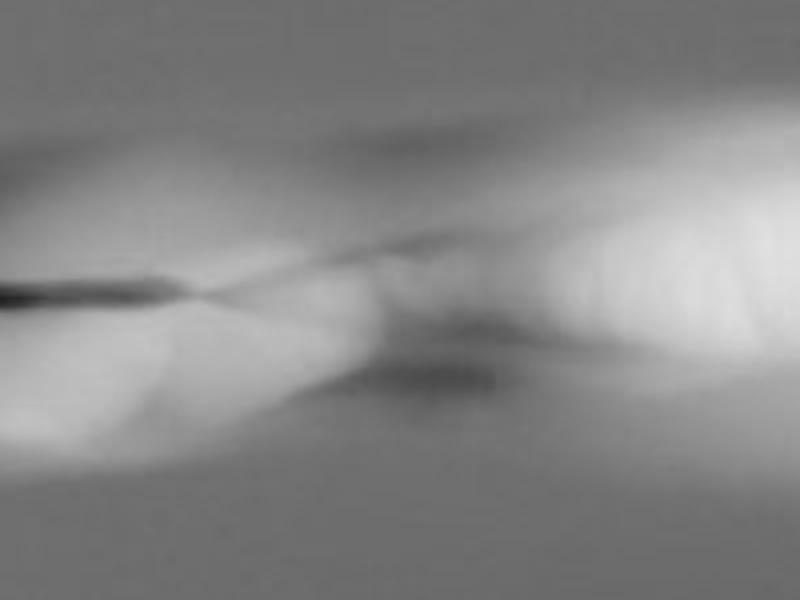defect: (1, 285, 177, 309)
